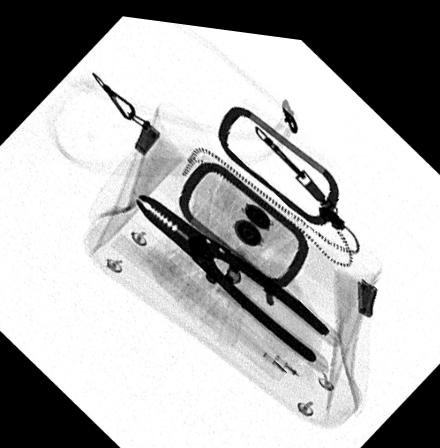Pliers: (133, 187, 332, 352)
